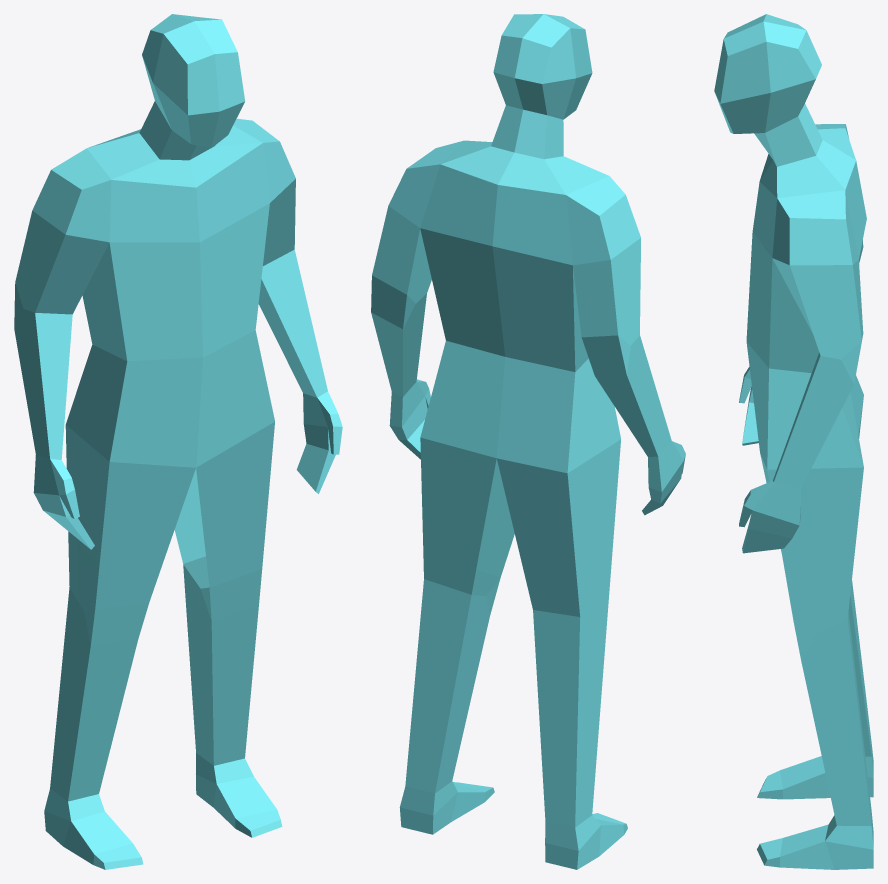
The model's file is GGJ2025_Humano_Celeste.fbx.
3 views of the same model, side by side, from view 1: azimuth 30°, elevation 25°; view 2: azimuth 150°, elevation 25°; view 3: azimuth 270°, elevation 25° (orthographic). The views are drawn at different scales.
Parts seen in each view (by area): view 1: Human.001; view 2: Human.001; view 3: Human.001.
Part boxes in pixels (left/top/right/bottom): Human.001: left=14, top=14, right=342, bottom=869; Human.001: left=371, top=14, right=685, bottom=869; Human.001: left=714, top=14, right=873, bottom=869.
Bounding box in the file's own units: 101 × 282 × 50.76.
